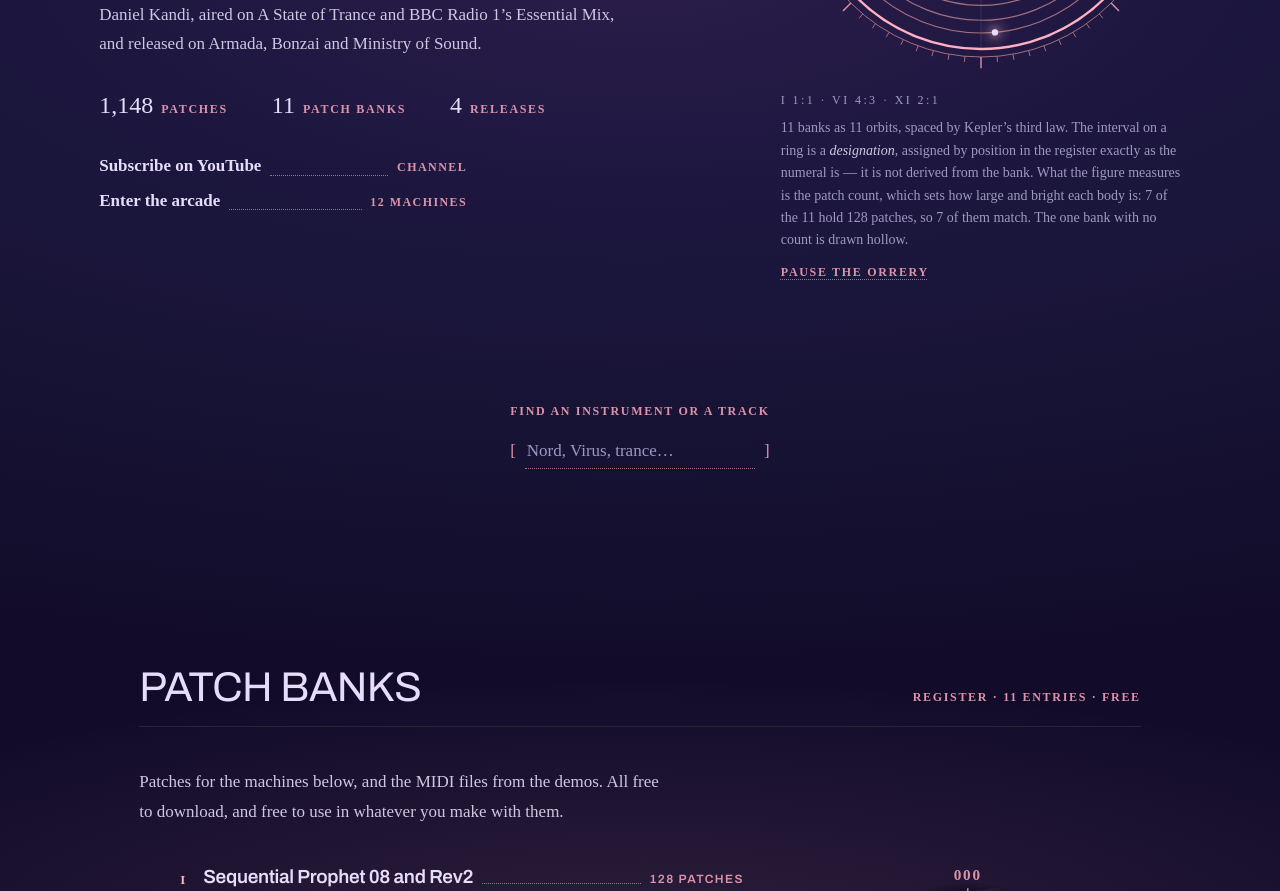
Scenario: AlmanacApp › shows both empty states when a query matches nothing
(page scrolled)
Expected: the text "releases" is shown, [470,100,546,118]
Step 1. Type "oboe" into the search field labelled "Find an instrument or a track" → coordinates (640, 451), box [525,432,755,469]
(page scrolled)
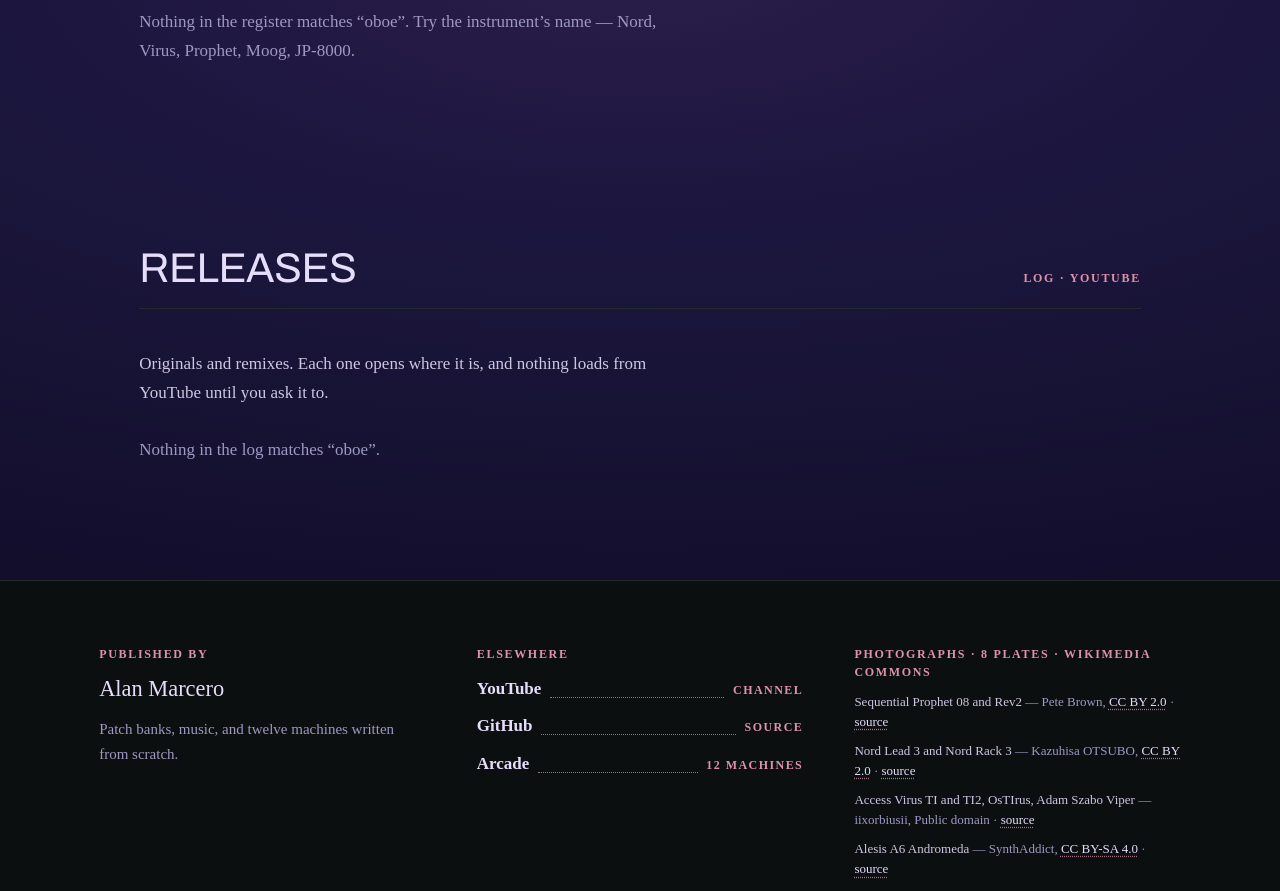
Now the text "Nothing in the register matches" shows "oboe", box [364,12,397,31]
Now the text "Nothing in the log matches “oboe”." is shown, box [139,440,380,459]
